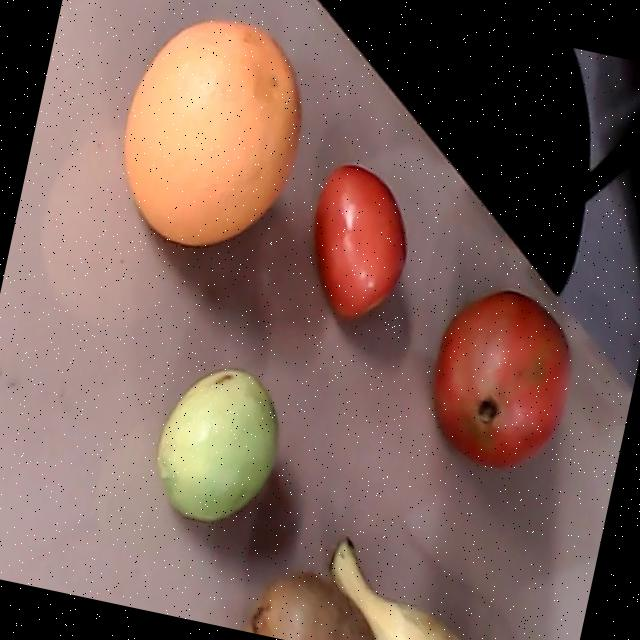kiwi: (243, 575, 375, 640)
lemon: (156, 368, 277, 520)
orange: (121, 17, 302, 246)
pomegranate: (431, 291, 570, 469)
tomato: (311, 160, 406, 319)
